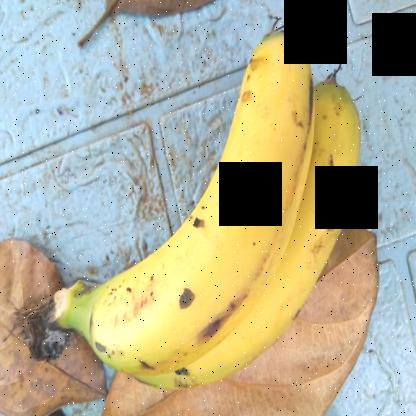freshripe: (300, 22, 372, 413)
ripe: (92, 23, 319, 373)
